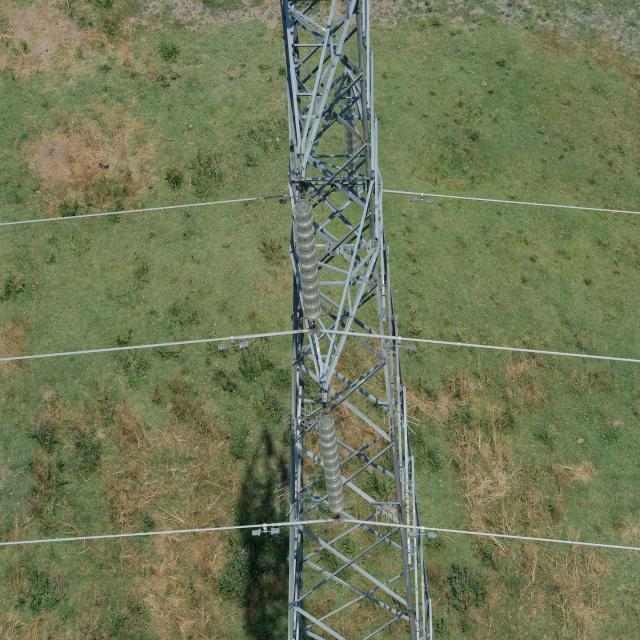direk: (276, 3, 430, 640)
